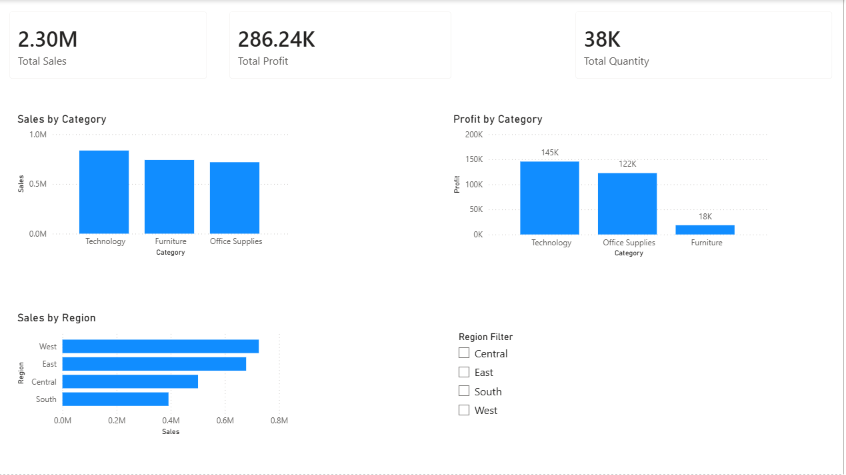

What the dashboard file says about the page in this screenshot:
{"tool":"powerbi","page":{"name":"Sales Overview","canvas":[1280,720],"ordinal":0},"visuals":[{"type":"cardVisual","fields":{"Data":["Sum(cleaned_data.Sales)"]},"box":[0,0,333.3,136.7],"z":0},{"type":"cardVisual","fields":{"Data":["Sum(cleaned_data.Profit)"]},"box":[333.3,0,370,136.7],"z":1000},{"type":"cardVisual","fields":{"Data":["Sum(cleaned_data.Quantity)"]},"box":[856.7,0,423.3,136.7],"z":2000},{"type":"clusteredColumnChart","fields":{"Y":["Sum(cleaned_data.Sales)"],"Category":["cleaned_data.Category"]},"box":[24.3,170,420,222.9],"z":3000},{"type":"clusteredColumnChart","fields":{"Category":["cleaned_data.Category"],"Y":["Sum(cleaned_data.Profit)"]},"box":[684.4,169.6,487.6,224.1],"z":4000},{"type":"clusteredBarChart","fields":{"Category":["cleaned_data.Region"],"Y":["Sum(cleaned_data.Sales)"]},"box":[24.3,471.4,420,192.9],"z":5000},{"type":"slicer","fields":{"Values":["cleaned_data.Region"]},"box":[684.4,496.7,424,193.8],"z":6000}]}

Visuals, with their boxes in screenshot pixels (x1, y1, x2, y2), scaled from the page's 1280x720 canvas onto the 846x475 screenshot:
cardVisual - Sum(cleaned_data.Sales): [x1=0, y1=0, x2=220, y2=90]
cardVisual - Sum(cleaned_data.Profit): [x1=220, y1=0, x2=465, y2=90]
cardVisual - Sum(cleaned_data.Quantity): [x1=566, y1=0, x2=845, y2=90]
clusteredColumnChart - Sum(cleaned_data.Sales) x cleaned_data.Category: [x1=16, y1=112, x2=294, y2=259]
clusteredColumnChart - cleaned_data.Category x Sum(cleaned_data.Profit): [x1=452, y1=112, x2=775, y2=260]
clusteredBarChart - cleaned_data.Region x Sum(cleaned_data.Sales): [x1=16, y1=311, x2=294, y2=438]
slicer - cleaned_data.Region: [x1=452, y1=328, x2=733, y2=456]
